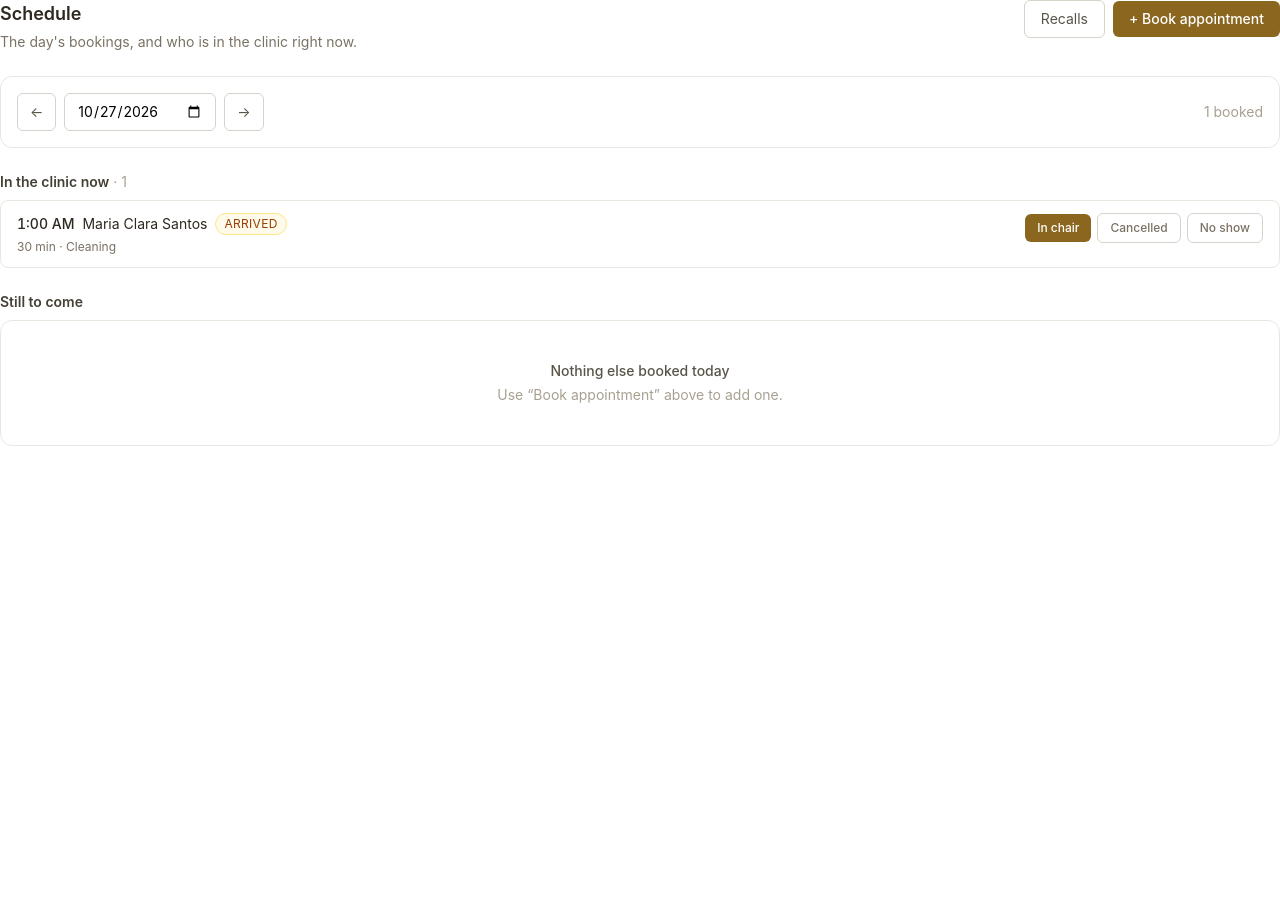
Test case: SchedulePage › reports a clash inside the dialog and stays open
The width and height of the screenshot is (1280, 900).
Click the button "In chair": (1058, 228) 1025,214 -> 1092,242
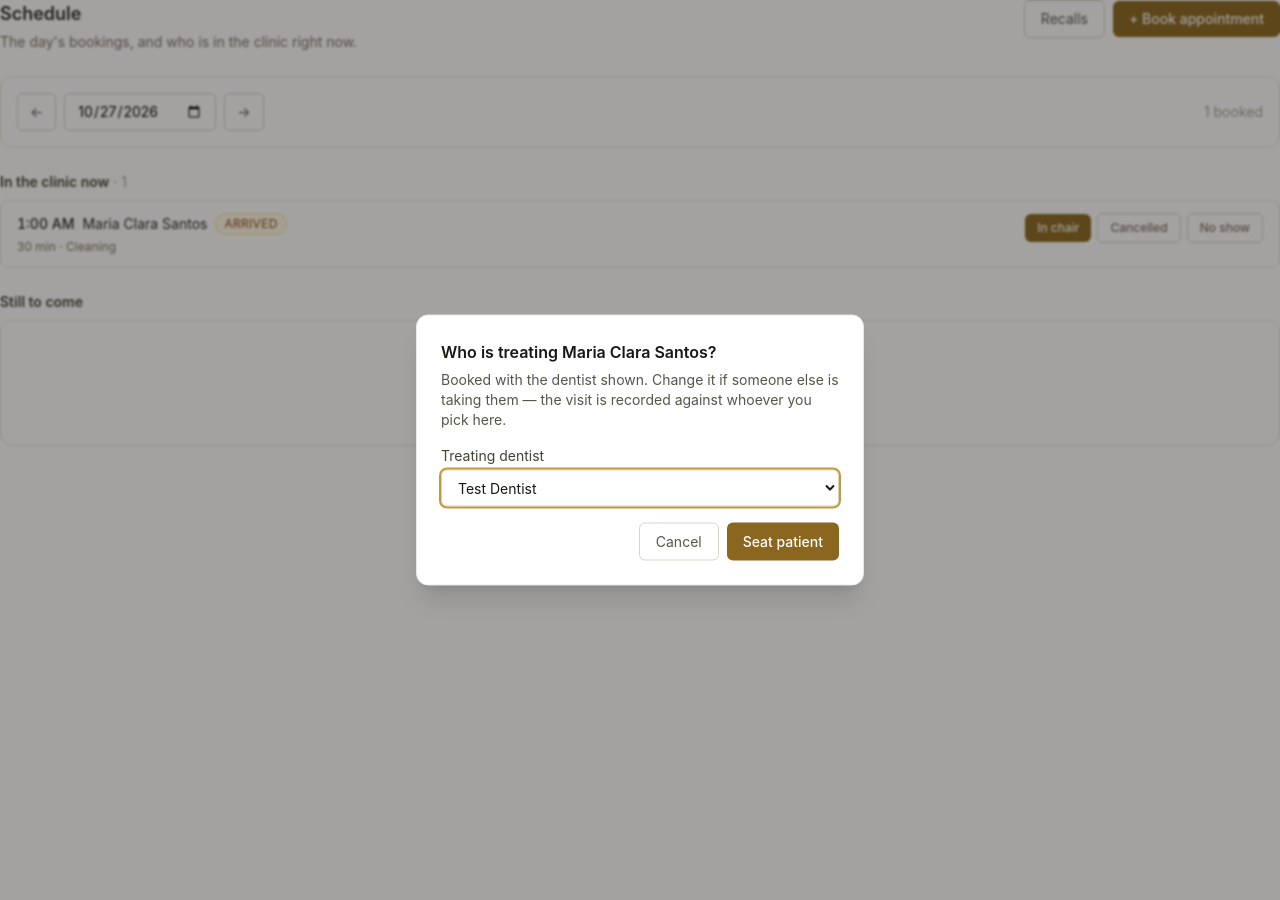
Click the button "Seat patient": (783, 542) 727,522 -> 839,560
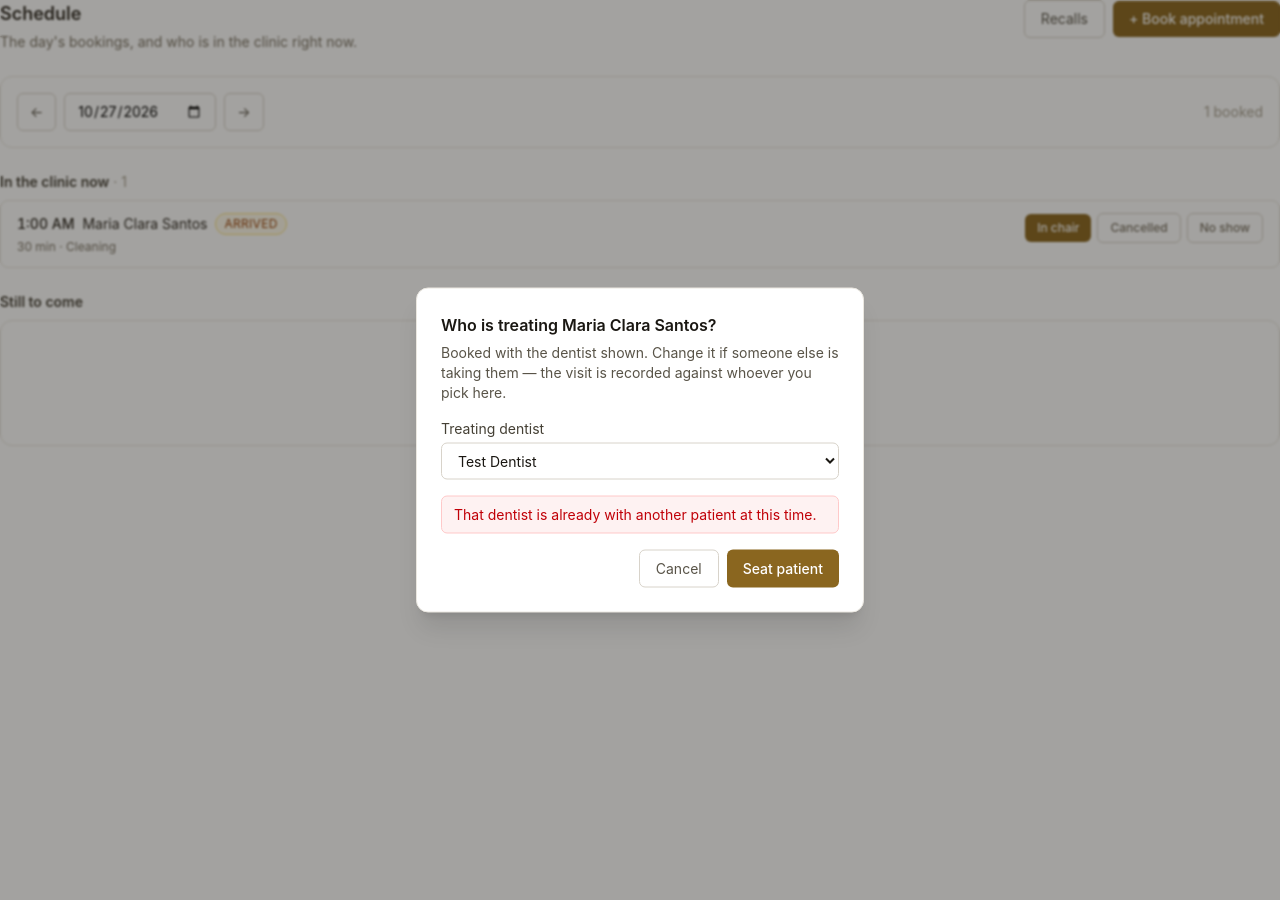
expect the dialog is shown: met, box 416,288 -> 864,612
expect the message shows "already with another patient": met, box 454,506 -> 816,522
